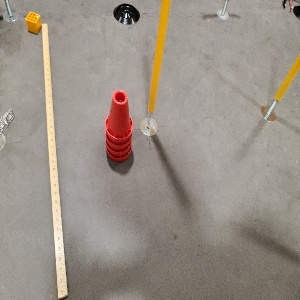Red_4: (103, 86, 136, 166)
